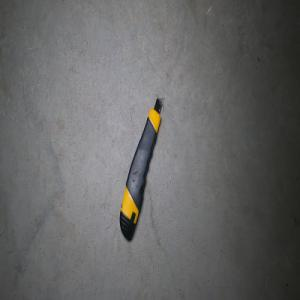Cutter: (118, 95, 164, 242)
